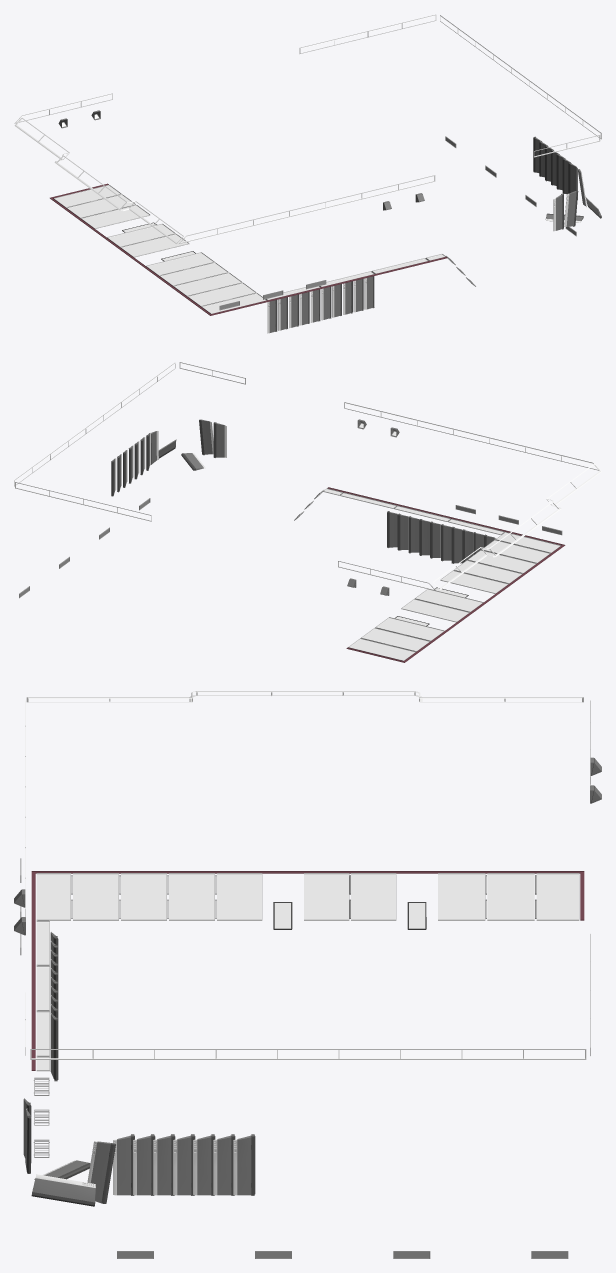
The picture shows the model from 3 angles, top to bottom: view 1: azimuth 30°, elevation 25°; view 2: azimuth 150°, elevation 25°; view 3: azimuth 270°, elevation 25°; orthographic projection. The views are drawn at different scales.
Visible parts, largest first — view 1: SM_H_Building_FutureTech_CtControl_01_ExterWall_02B; view 2: SM_H_Building_FutureTech_CtControl_01_ExterWall_02B; view 3: SM_H_Building_FutureTech_CtControl_01_ExterWall_02B.
Boxes of the visible parts, x1,y1,x2,y2 form: SM_H_Building_FutureTech_CtControl_01_ExterWall_02B: (14, 14, 601, 333); SM_H_Building_FutureTech_CtControl_01_ExterWall_02B: (14, 362, 601, 662); SM_H_Building_FutureTech_CtControl_01_ExterWall_02B: (14, 691, 601, 1258).
Size of the model in its own units: 1573 by 2342 by 641.
